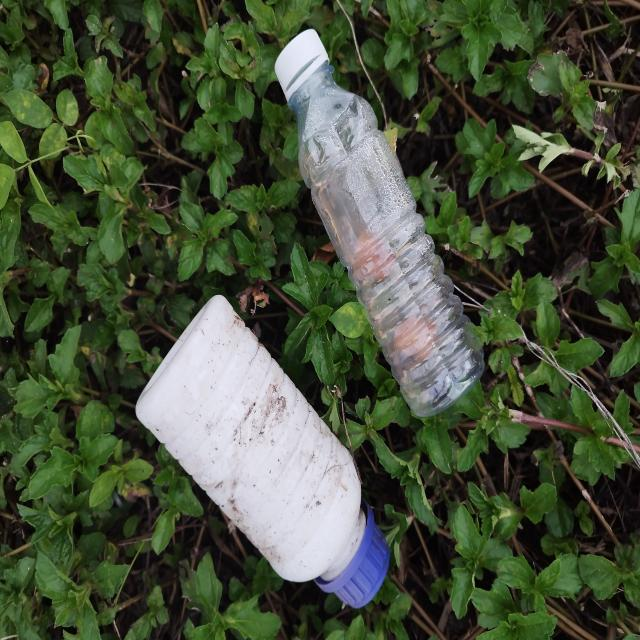bottle: (274, 29, 484, 422), (136, 294, 390, 607)
